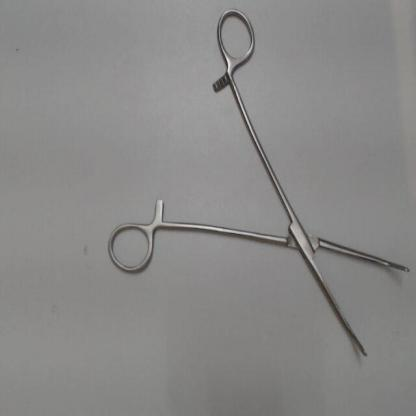Lahey Forceps: (101, 1, 414, 370)
